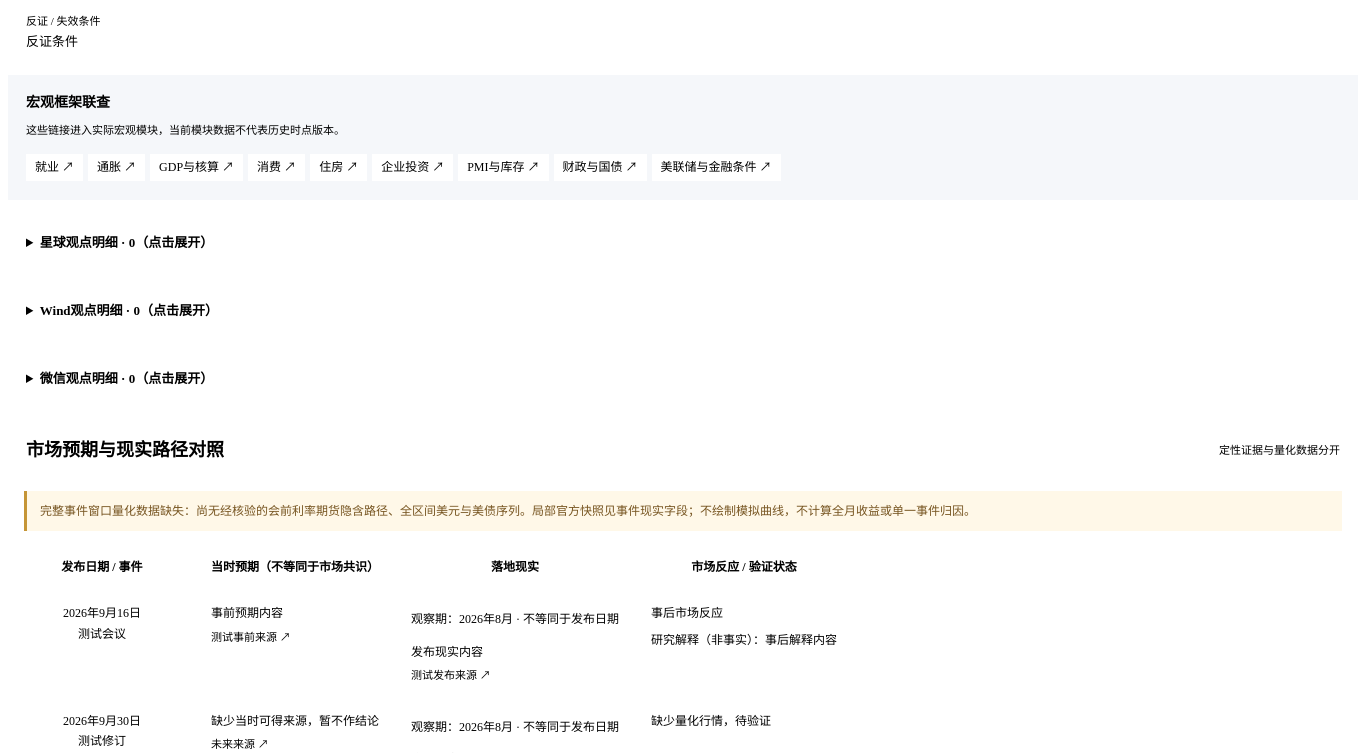
Test: 微信未提供正文证据时显示零条空状态，不造观点
(page scrolled)
Click the heading "微信观点明细 · 0（点击展开）".
click(126, 378)  # box [40,371,213,386]
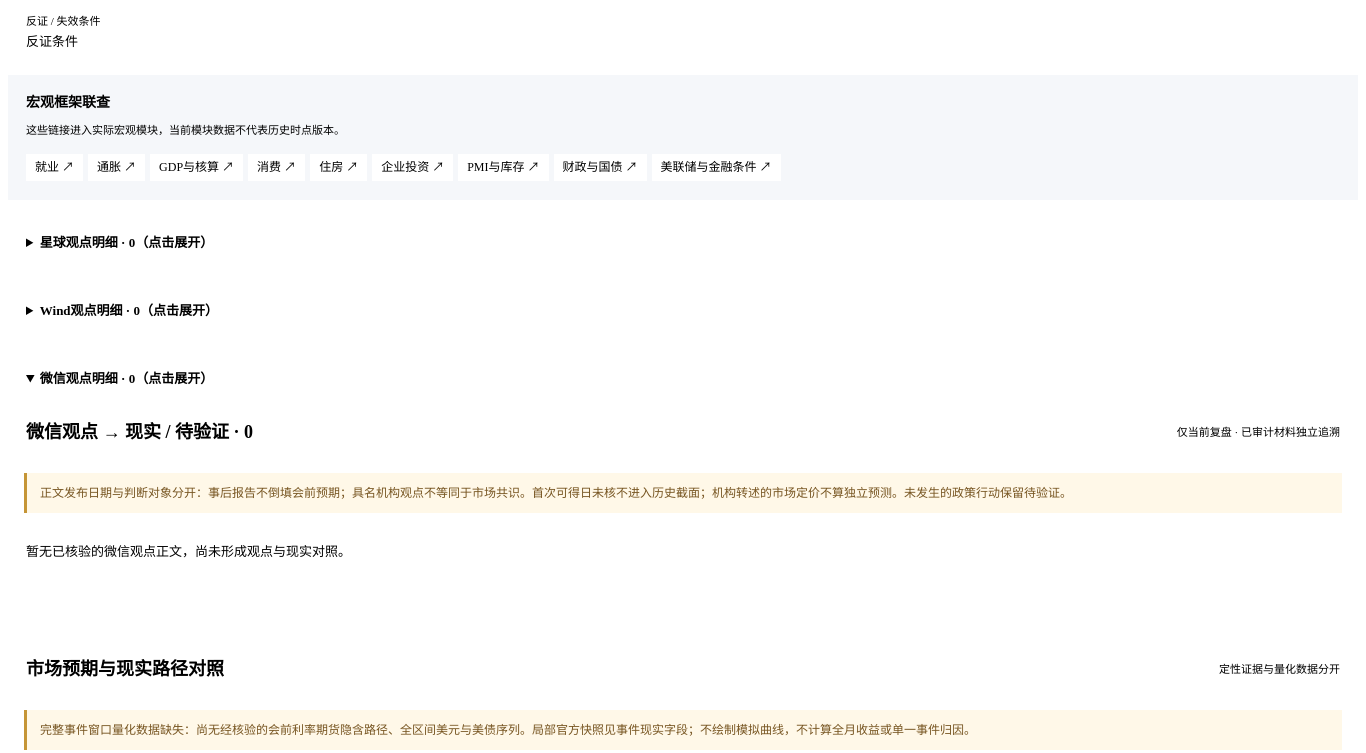
expect the element named "微信观点独立追溯" shows "暂无已核验的微信观点正文，尚未形成观点与现实对照。": met, box [8,404,1358,623]
